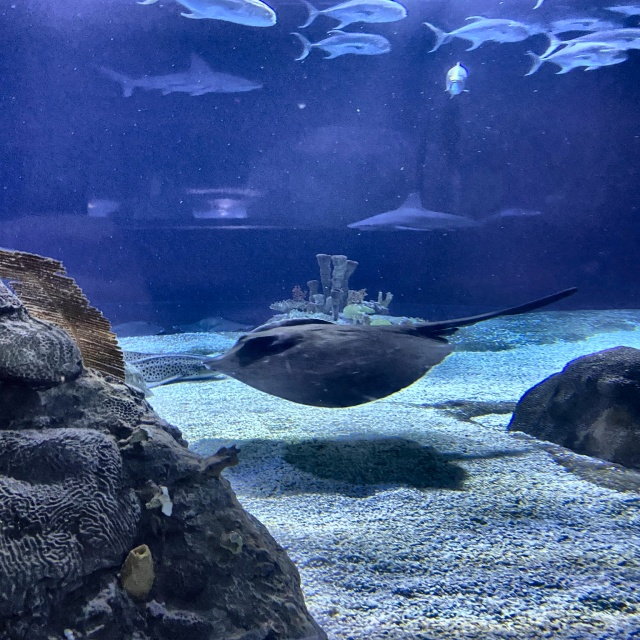fish: (138, 0, 277, 28), (424, 17, 531, 51), (293, 30, 390, 62), (301, 0, 407, 26), (525, 49, 626, 75), (543, 31, 639, 58), (526, 11, 627, 36), (589, 0, 639, 18), (445, 62, 469, 96)
shark: (102, 52, 264, 97), (351, 194, 492, 234), (110, 348, 226, 388)
stingray: (201, 318, 456, 408)
